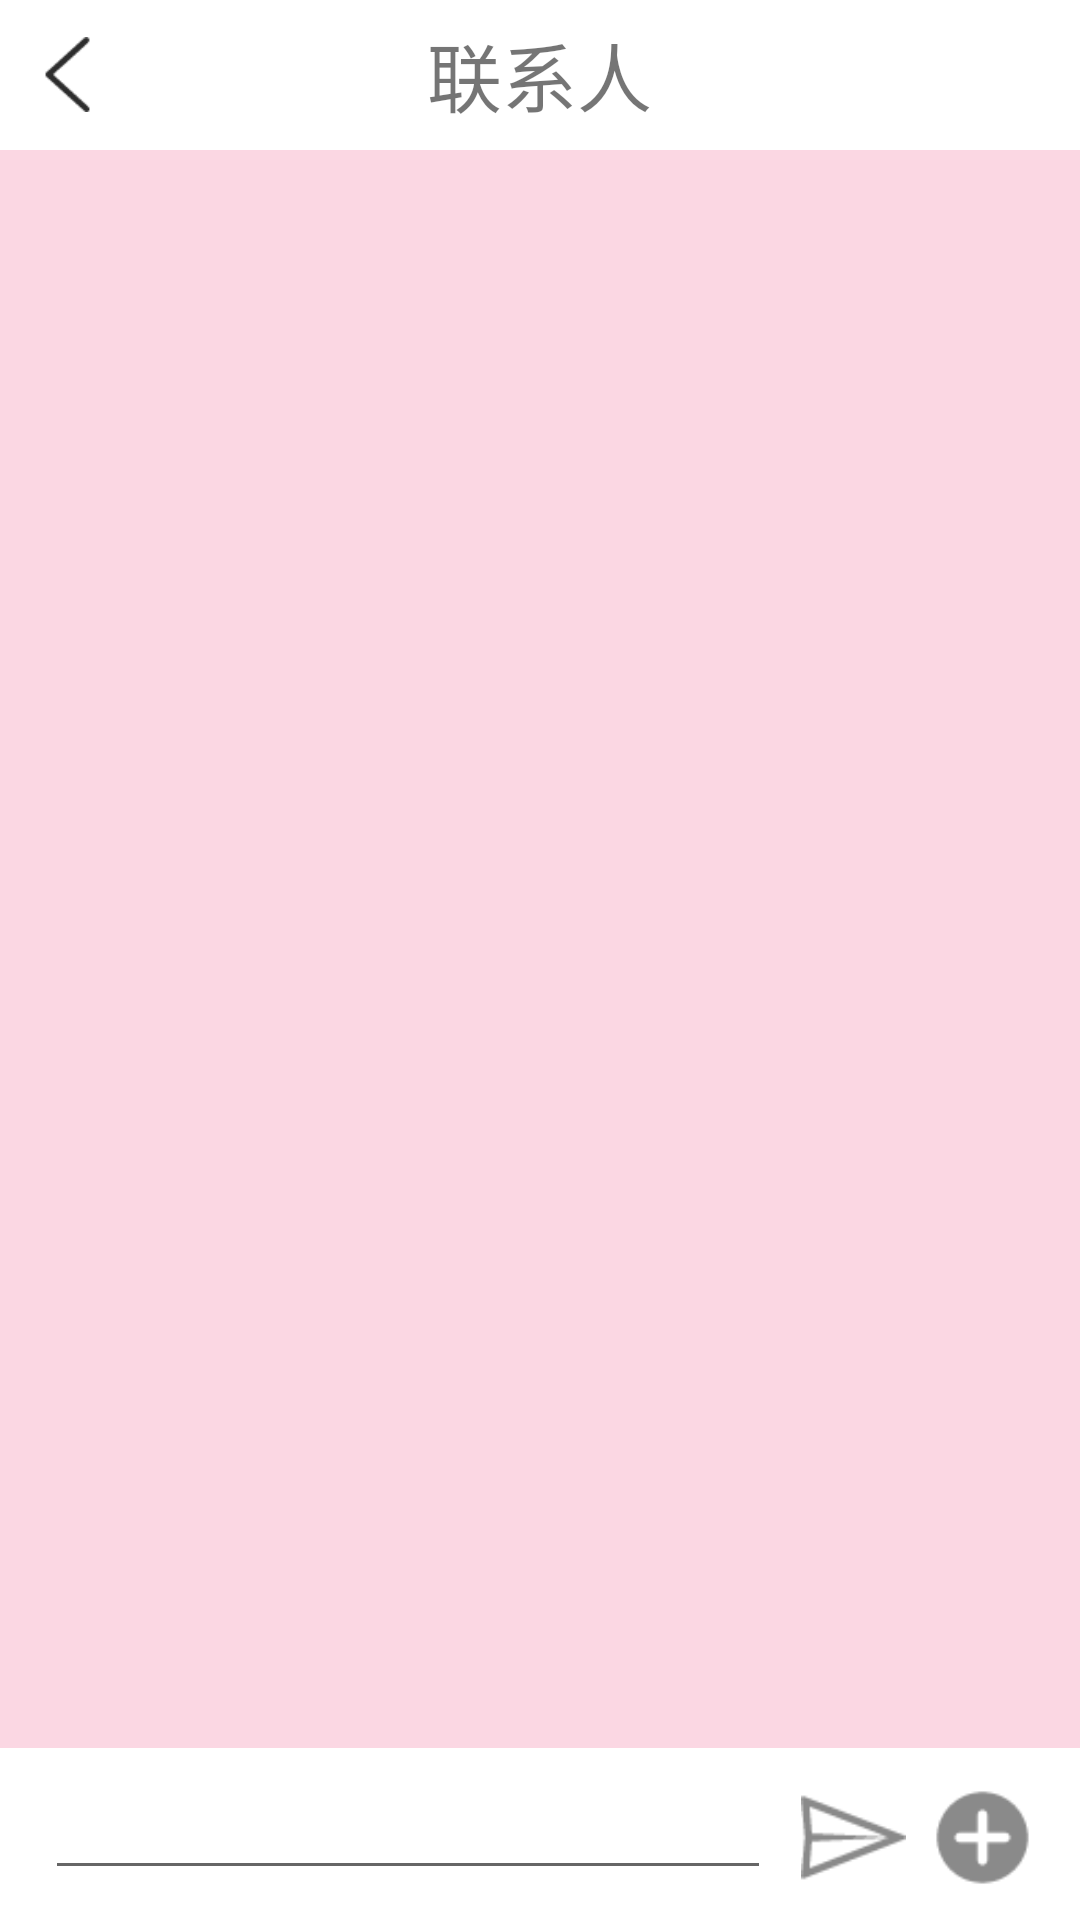

Screen size 1080*1920. Icon name, then its box in pixels as [left=x1, top=y1, right=x2, bottom=y2]:
more: [left=936, top=1791, right=1029, bottom=1884]
send: [left=801, top=1796, right=906, bottom=1879]
